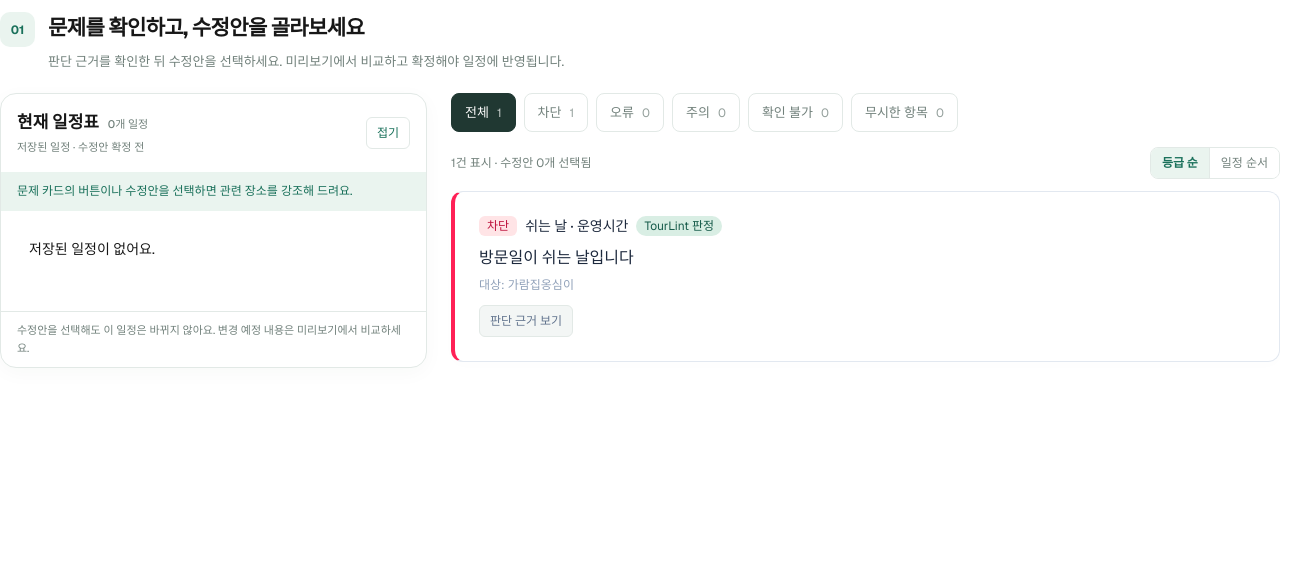
Scenario: 판단 근거의 공사 원문 › 🔴 제3유형(Type3)이면 공사 원문 배지에 「변경금지」를 붙인다 (FR-CM-011)
Click the button "판단 근거 보기" at {"x": 526, "y": 321}, box [479, 305, 573, 337]
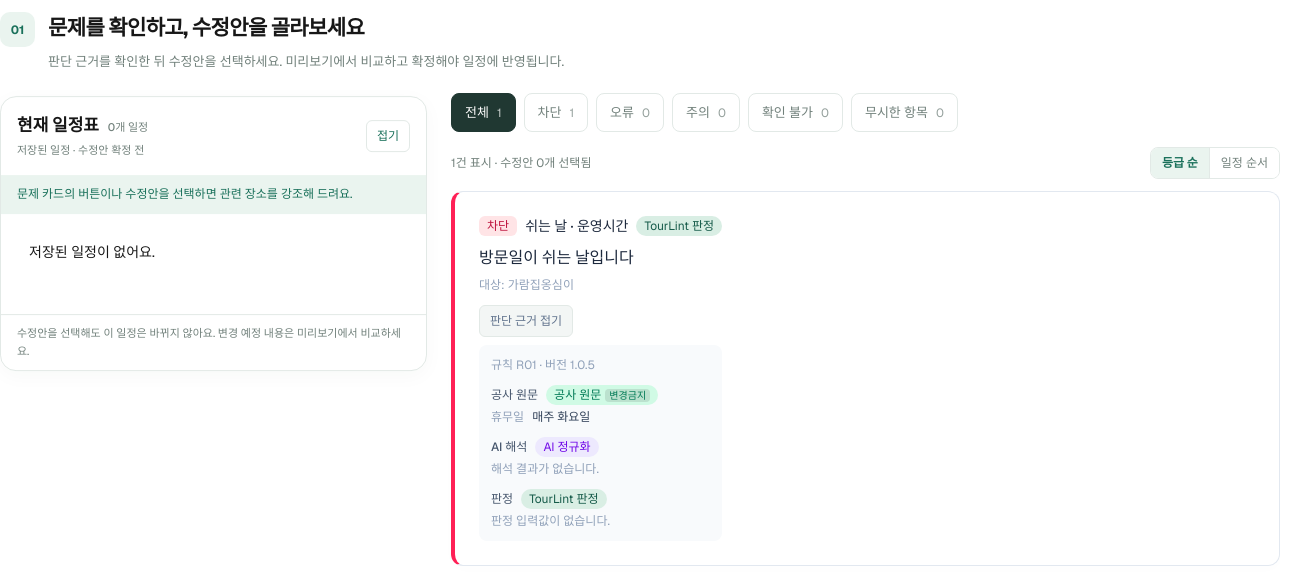
Now the element showing "공사 원문 공사 원문 변경금지 휴무일 매주 화요일" is shown, box [491, 385, 658, 425]
Now the element showing "공사 원문 변경금지" is shown, box [546, 385, 658, 405]
